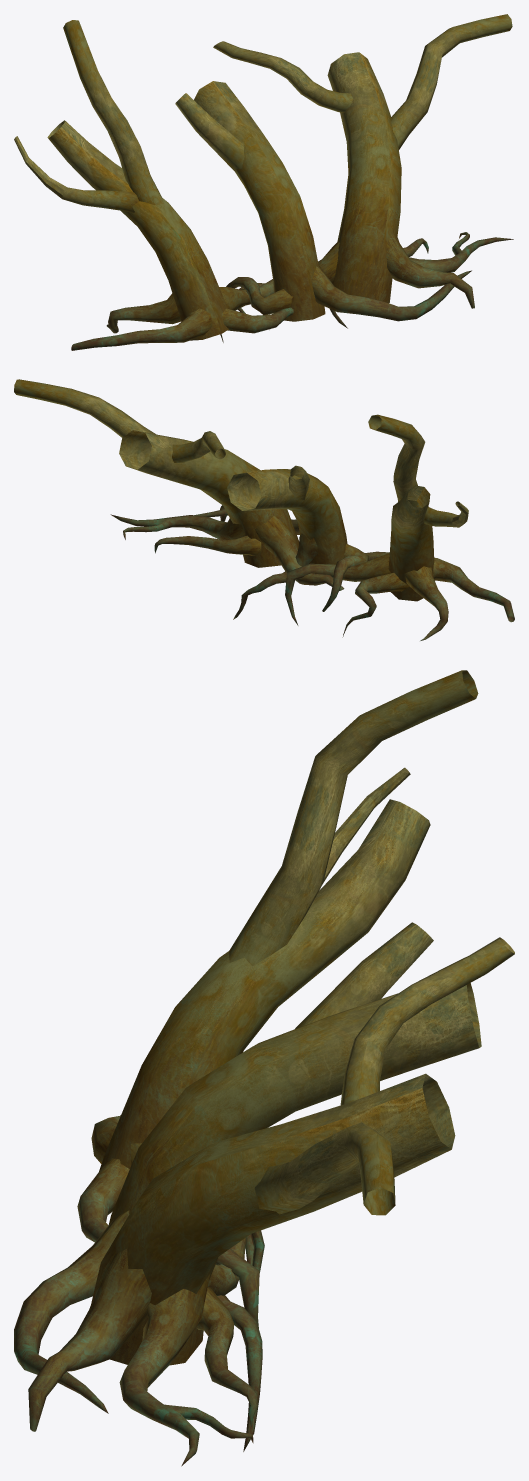
The model's file is Waterfall_Trees.fbx.
3 renders of one model, top to bottom at view 1: azimuth 30°, elevation 25°; view 2: azimuth 150°, elevation 25°; view 3: azimuth 270°, elevation 25°, orthographic. The views are drawn at different scales.
Visible parts, largest first — view 1: trees1; view 2: trees1; view 3: trees1.
Part boxes in pixels (x1,y1,x2,y2): trees1: [14, 14, 513, 350]; trees1: [14, 379, 514, 640]; trees1: [14, 670, 514, 1466].
Size of the model in its own units: 120 by 74.74 by 57.72.
1 material, 1 textured.
